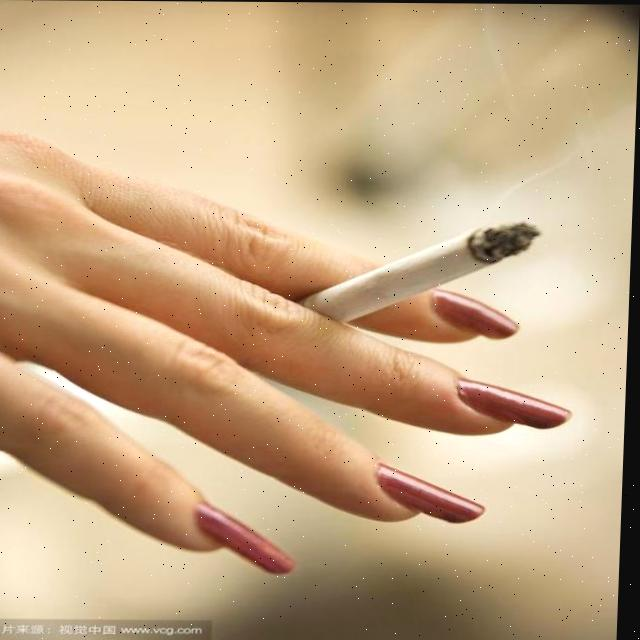cigarette: (297, 216, 544, 325)
